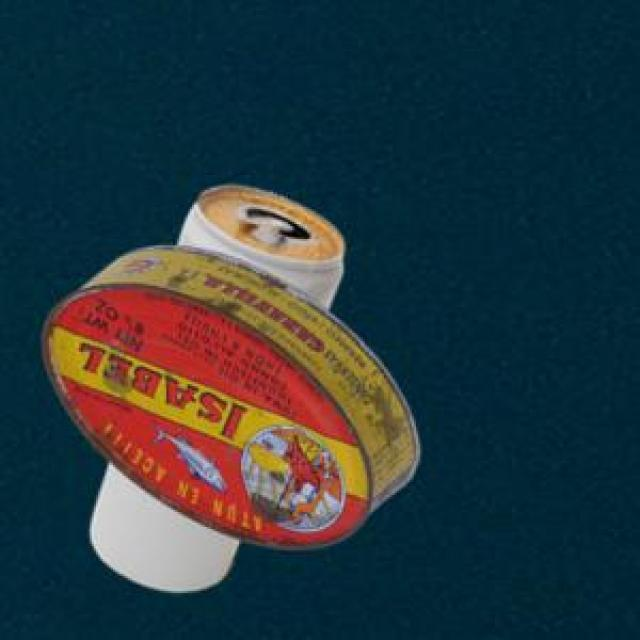Can: (39, 242, 417, 547), (89, 182, 340, 588)
